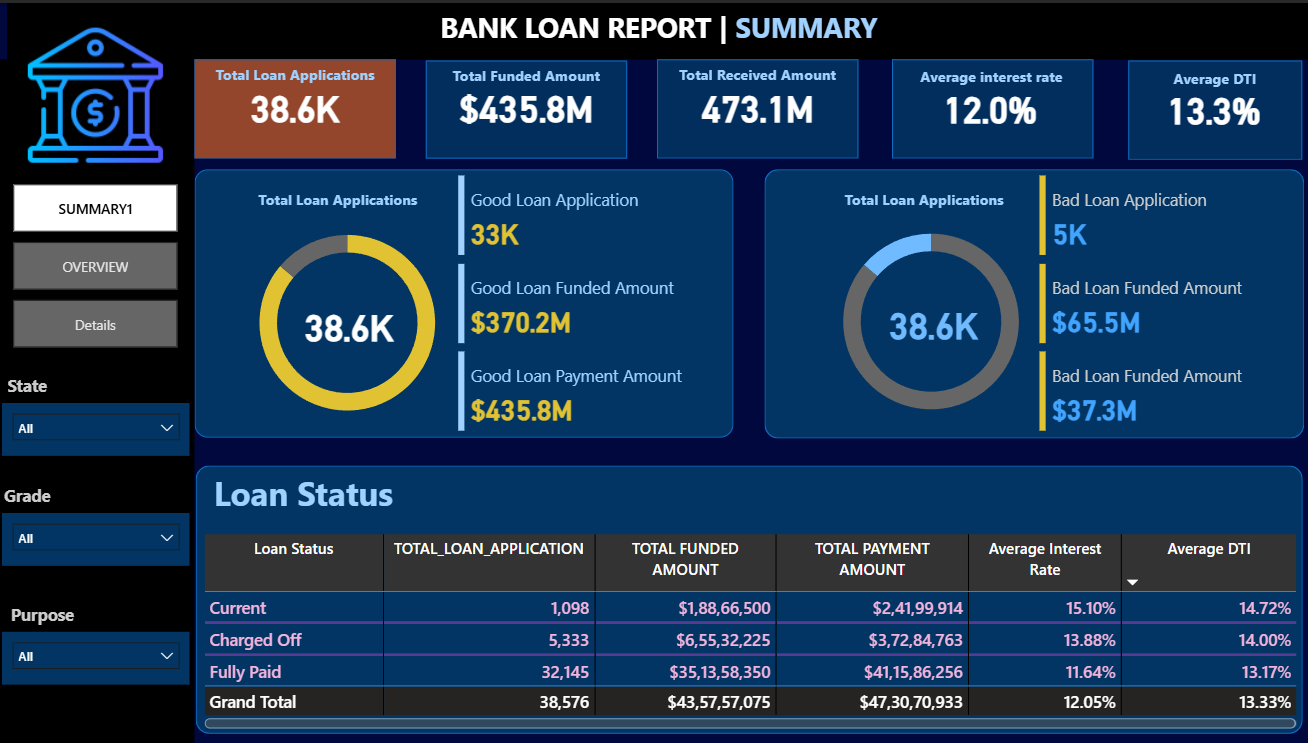

What the dashboard file says about the page in this screenshot:
{"tool":"powerbi","page":{"name":"SUMMARY1","canvas":[1280,720],"ordinal":0},"visuals":[{"type":"shape","box":[191.4,54.3,195.1,96.3],"z":0,"group":"g4"},{"type":"shape","box":[639.5,54.6,195.1,96.3],"z":0,"group":"g2"},{"type":"shape","box":[866.8,54.9,195.1,96.3],"z":0,"group":"g3"},{"type":"shape","box":[1095.4,55.2,168.6,96.3],"z":0,"group":"g8"},{"type":"shape","box":[415.4,55.6,195.1,95.1],"z":0,"group":"g1"},{"type":"shape","box":[743.2,160.7,522.6,260.7],"z":0},{"type":"card","fields":{"Values":["bank_loan financial_loan_data.TOTAL_LOAN_APPLICATION"]},"box":[191.4,77.8,195.1,44.4],"z":1000,"group":"g4"},{"type":"card","fields":{"Values":["Sum(bank_loan financial_loan_data.total_payment)"]},"box":[639.5,78.1,195.1,44.4],"z":1000,"group":"g2"},{"type":"card","fields":{"Values":["bank_loan financial_loan_data.TOTAL FUNDED AMOUNT"]},"box":[415.4,79.1,195.1,43.2],"z":1000,"group":"g1"},{"type":"card","fields":{"Values":["Avg(bank_loan financial_loan_data.int_rate)"]},"box":[864.8,79.6,195.1,44.4],"z":1000,"group":"g3"},{"type":"card","fields":{"Values":["Avg(bank_loan financial_loan_data.dti)"]},"box":[1093.7,79.9,168.3,44.4],"z":1000,"group":"g8"},{"type":"shape","box":[191.7,160.7,522,260],"z":1000},{"type":"textbox","box":[191.4,54.3,195.1,33.5],"z":2000,"group":"g4"},{"type":"textbox","box":[639.5,54.6,195.1,33.5],"z":2000,"group":"g2"},{"type":"textbox","box":[415.4,55.6,195.1,33],"z":2000,"group":"g1"},{"type":"textbox","box":[863.6,57.9,200,31.7],"z":2000,"group":"g3"},{"type":"textbox","box":[1092.6,58.2,172.8,31.7],"z":2000,"group":"g8"},{"type":"donutChart","fields":{"Y":["bank_loan financial_loan_data.TOTAL_LOAN_APPLICATION"],"Category":["bank_loan financial_loan_data.Good VS Bad Loan"]},"box":[789.3,197.6,231,222.6],"z":2000},{"type":"shape","box":[9.8,0,1270.7,54.9],"z":3000},{"type":"card","fields":{"Values":["bank_loan financial_loan_data.TOTAL_LOAN_APPLICATION"]},"box":[825,288.1,163.1,44],"z":4000},{"type":"group","id":"g1","title":"Group 2","box":[415.4,55.6,195.1,95.1],"z":4001,"group":"g5"},{"type":"shape","box":[0,54.9,191.5,665.9],"z":5000},{"type":"group","id":"g2","title":"Group 3","box":[639.5,54.6,195.1,96.3],"z":5001,"group":"g6"},{"type":"group","id":"g3","title":"Group 4","box":[863.6,54.9,200,96.3],"z":5002,"group":"g7"},{"type":"card","fields":{"Values":["CountNonNull(bank_loan financial_loan_data.Good VS Bad Loan)"]},"box":[285.7,290.5,110.7,44],"z":6000},{"type":"textbox","box":[208.3,175,244,33.3],"z":7000},{"type":"textbox","box":[413.4,0,453.7,54.9],"z":8000},{"type":"group","id":"g4","title":"Group 1","box":[191.4,54.3,195.1,96.3],"z":9000},{"type":"group","id":"g5","title":"Group 1","box":[415.4,55.6,195.1,95.1],"z":10000},{"type":"group","id":"g6","title":"Group 2","box":[639.5,54.6,195.1,96.3],"z":11000},{"type":"group","id":"g7","title":"Group 3","box":[863.6,54.9,200,96.3],"z":12000},{"type":"group","id":"g8","title":"Group 4","box":[1092.6,55.2,172.8,96.3],"z":13000},{"type":"donutChart","fields":{"Y":["bank_loan financial_loan_data.TOTAL_LOAN_APPLICATION"],"Category":["bank_loan financial_loan_data.Good VS Bad Loan"]},"box":[223.8,198.8,231,222.6],"z":14000},{"type":"cardVisual","fields":{"Data":["bank_loan financial_loan_data.good loan application","bank_loan financial_loan_data.good loan funded amount","bank_loan financial_loan_data.good loan payment amount"]},"box":[441.7,161.9,271.4,259.5],"z":15000},{"type":"textbox","box":[776.2,175,244,33.3],"z":16000},{"type":"cardVisual","fields":{"Data":["bank_loan financial_loan_data.Bad loan application","bank_loan financial_loan_data.bad loan funded amount","bank_loan financial_loan_data.bad loan payment amount"]},"box":[1004.8,161.9,227.4,258.3],"z":17000},{"type":"shape","box":[192.5,447.6,1072,259.8],"z":18000},{"type":"tableEx","fields":{"Values":["bank_loan financial_loan_data.loan_status","bank_loan financial_loan_data.TOTAL_LOAN_APPLICATION","bank_loan financial_loan_data.TOTAL FUNDED AMOUNT","bank_loan financial_loan_data.TOTAL PAYMENT AMOUNT","Avg(bank_loan financial_loan_data.int_rate)","Avg(bank_loan financial_loan_data.dti)"]},"box":[195.1,509.8,1068.3,197.6],"z":19000},{"type":"textbox","box":[197.6,447.6,198.8,62.2],"z":20000},{"type":"slicer","fields":{"Values":["bank_loan financial_loan_data.address_state"]},"box":[4.9,387.8,181.7,51.2],"z":21000},{"type":"textbox","box":[0,354.9,58.5,32.9],"z":22000},{"type":"slicer","fields":{"Values":["bank_loan financial_loan_data.grade"]},"box":[4.9,493.9,181.7,51.2],"z":23000},{"type":"slicer","fields":{"Values":["bank_loan financial_loan_data.purpose"]},"box":[4.9,608.5,181.7,51.2],"z":24000},{"type":"textbox","box":[0,461,58.5,32.9],"z":25000},{"type":"textbox","box":[0,575.6,87.8,32.9],"z":26000},{"type":"image","box":[15.9,9.8,159.8,159.8],"z":27000},{"type":"pageNavigator","box":[15.9,175.6,159.8,158.5],"z":28000}]}

Visuals, with their boxes in screenshot pixels (x1, y1, x2, y2), scaled from the page's 1280x720 canvas onto the 1308x743 screenshot:
shape: [left=196, top=56, right=395, bottom=155]
shape: [left=653, top=56, right=853, bottom=156]
shape: [left=886, top=57, right=1085, bottom=156]
shape: [left=1119, top=57, right=1292, bottom=156]
shape: [left=424, top=57, right=624, bottom=156]
shape: [left=759, top=166, right=1293, bottom=435]
card - bank_loan financial_loan_data.TOTAL_LOAN_APPLICATION: [left=196, top=80, right=395, bottom=126]
card - Sum(bank_loan financial_loan_data.total_payment): [left=653, top=81, right=853, bottom=126]
card - bank_loan financial_loan_data.TOTAL FUNDED AMOUNT: [left=424, top=82, right=624, bottom=126]
card - Avg(bank_loan financial_loan_data.int_rate): [left=884, top=82, right=1083, bottom=128]
card - Avg(bank_loan financial_loan_data.dti): [left=1118, top=82, right=1290, bottom=128]
shape: [left=196, top=166, right=729, bottom=434]
textbox: [left=196, top=56, right=395, bottom=91]
textbox: [left=653, top=56, right=853, bottom=91]
textbox: [left=424, top=57, right=624, bottom=91]
textbox: [left=882, top=60, right=1087, bottom=92]
textbox: [left=1117, top=60, right=1293, bottom=93]
donutChart - bank_loan financial_loan_data.TOTAL_LOAN_APPLICATION x bank_loan financial_loan_data.Good VS Bad Loan: [left=807, top=204, right=1043, bottom=434]
shape: [left=10, top=0, right=1307, bottom=57]
card - bank_loan financial_loan_data.TOTAL_LOAN_APPLICATION: [left=843, top=297, right=1010, bottom=343]
"Group 2" group: [left=424, top=57, right=624, bottom=156]
shape: [left=0, top=57, right=196, bottom=742]
"Group 3" group: [left=653, top=56, right=853, bottom=156]
"Group 4" group: [left=882, top=57, right=1087, bottom=156]
card - CountNonNull(bank_loan financial_loan_data.Good VS Bad Loan): [left=292, top=300, right=405, bottom=345]
textbox: [left=213, top=181, right=462, bottom=215]
textbox: [left=422, top=0, right=886, bottom=57]
"Group 1" group: [left=196, top=56, right=395, bottom=155]
"Group 1" group: [left=424, top=57, right=624, bottom=156]
"Group 2" group: [left=653, top=56, right=853, bottom=156]
"Group 3" group: [left=882, top=57, right=1087, bottom=156]
"Group 4" group: [left=1117, top=57, right=1293, bottom=156]
donutChart - bank_loan financial_loan_data.TOTAL_LOAN_APPLICATION x bank_loan financial_loan_data.Good VS Bad Loan: [left=229, top=205, right=465, bottom=435]
cardVisual - bank_loan financial_loan_data.good loan application x bank_loan financial_loan_data.good loan funded amount: [left=451, top=167, right=729, bottom=435]
textbox: [left=793, top=181, right=1043, bottom=215]
cardVisual - bank_loan financial_loan_data.Bad loan application x bank_loan financial_loan_data.bad loan funded amount: [left=1027, top=167, right=1259, bottom=434]
shape: [left=197, top=462, right=1292, bottom=730]
tableEx - bank_loan financial_loan_data.loan_status x bank_loan financial_loan_data.TOTAL_LOAN_APPLICATION: [left=199, top=526, right=1291, bottom=730]
textbox: [left=202, top=462, right=405, bottom=526]
slicer - bank_loan financial_loan_data.address_state: [left=5, top=400, right=191, bottom=453]
textbox: [left=0, top=366, right=60, bottom=400]
slicer - bank_loan financial_loan_data.grade: [left=5, top=510, right=191, bottom=563]
slicer - bank_loan financial_loan_data.purpose: [left=5, top=628, right=191, bottom=681]
textbox: [left=0, top=476, right=60, bottom=510]
textbox: [left=0, top=594, right=90, bottom=628]
image: [left=16, top=10, right=180, bottom=175]
pageNavigator: [left=16, top=181, right=180, bottom=345]
